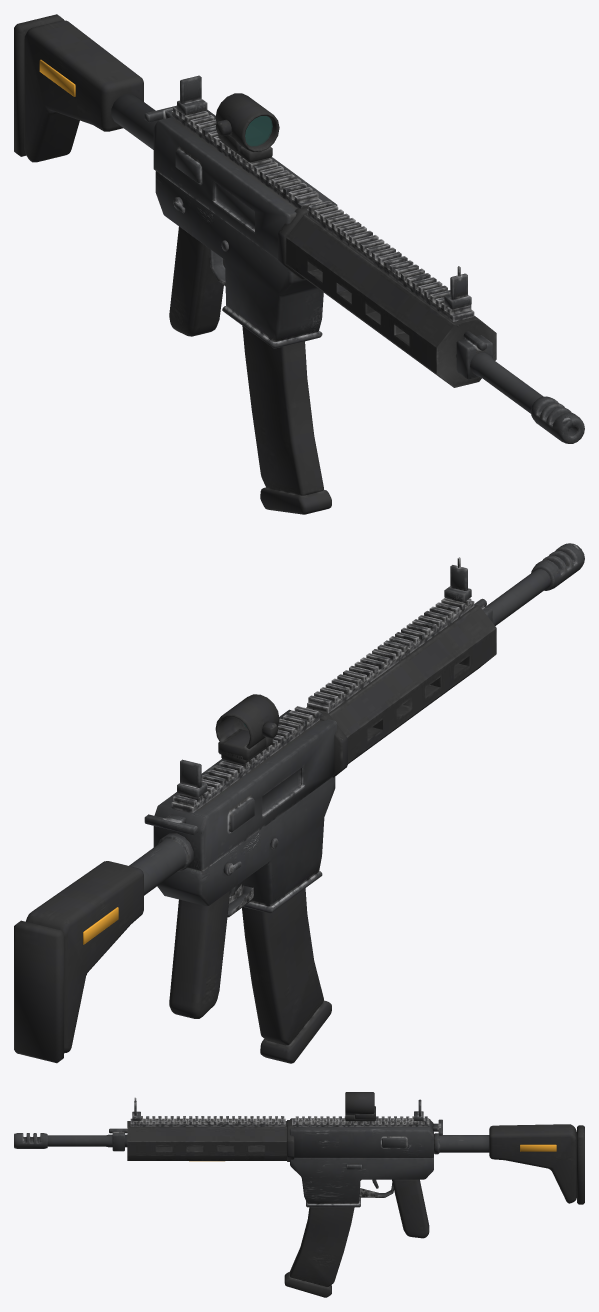
The picture shows the model from 3 angles, top to bottom: view 1: azimuth 30°, elevation 25°; view 2: azimuth 150°, elevation 25°; view 3: azimuth 270°, elevation 25°; orthographic projection. The views are drawn at different scales.
Parts seen in each view (by area): view 1: Handguard, Stock, Magazine, LowerReceiver, UpperReceiver, HandguardRail, Grip, UpperRail, Optic, ButtPad, Barrel, MuzzleBrake (+6 smaller); view 2: UpperReceiver, Magazine, Handguard, LowerReceiver, Stock, ButtPad, Grip, HandguardRail, Optic, UpperRail, BufferTube, Barrel (+5 smaller); view 3: Handguard, LowerReceiver, UpperReceiver, Magazine, Stock, Grip, HandguardRail, UpperRail, BufferTube, Optic, Barrel, ButtPad (+3 smaller).
Part boxes in pixels (x1,y1,x2,y2): Handguard: (286,214,496,387); Stock: (24,20,143,162); Magazine: (242,326,331,514); LowerReceiver: (155,171,323,348); UpperReceiver: (153,109,337,259); HandguardRail: (307,201,474,321); Grip: (169,226,225,336); UpperRail: (171,106,322,208); Optic: (215,93,279,162); ButtPad: (14,14,63,156); Barrel: (456,352,543,413); MuzzleBrake: (530,396,584,443); UpperReceiver: (153,709,336,871); Magazine: (242,888,331,1063); Handguard: (306,604,496,763); LowerReceiver: (157,776,335,913); Stock: (26,861,143,1053); ButtPad: (14,920,63,1063); Grip: (169,891,229,1018); HandguardRail: (307,598,474,713); Optic: (215,694,279,764); UpperRail: (171,706,322,812); BufferTube: (129,833,193,895); Barrel: (485,569,550,625); Handguard: (127,1121,286,1160); LowerReceiver: (290,1157,433,1207); UpperReceiver: (290,1118,433,1157); Magazine: (284,1207,354,1297); Stock: (489,1124,576,1203); Grip: (392,1179,429,1238); HandguardRail: (130,1116,285,1126); UpperRail: (292,1116,429,1126); BufferTube: (434,1133,489,1154); Optic: (345,1092,375,1121); Barrel: (47,1134,188,1147); ButtPad: (577,1125,584,1204).
Bounding box in the file's own units: 0.0647 × 0.3624 × 0.931.
4 materials, 2 textured.
